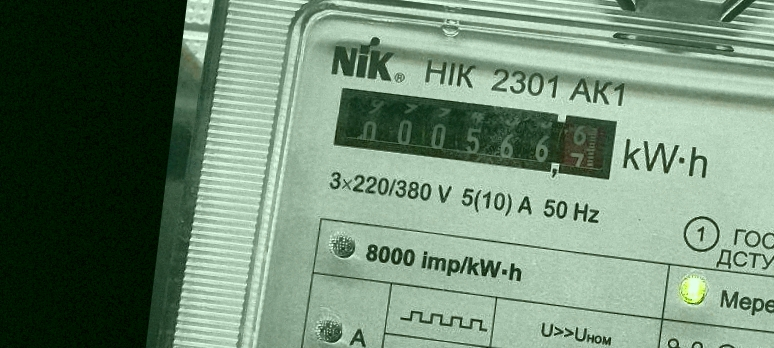0: (427, 120, 449, 150), (394, 115, 414, 145), (358, 115, 380, 140)
5: (462, 124, 483, 155)
6: (530, 130, 553, 163), (495, 129, 517, 159), (570, 121, 589, 148)
7: (567, 149, 585, 169)
9: (365, 94, 385, 116)
screen: (323, 78, 623, 188)
